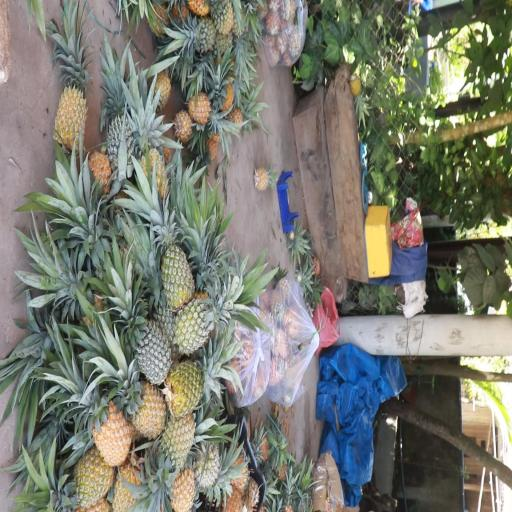------------------------------: (160, 344, 238, 414), (174, 286, 236, 358), (154, 205, 193, 304)
Pineapple - v8 v1: (71, 372, 132, 460), (49, 36, 92, 156), (111, 356, 168, 434), (46, 440, 112, 504), (154, 404, 197, 500)
